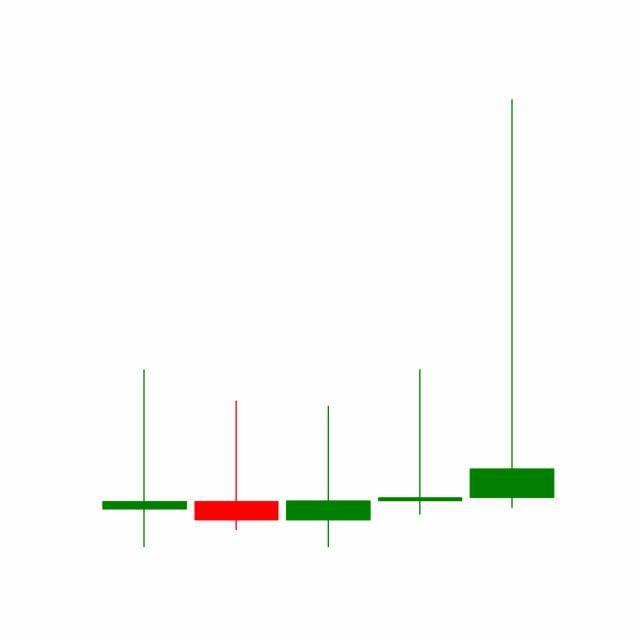Spinning Top: (374, 368, 468, 517)
